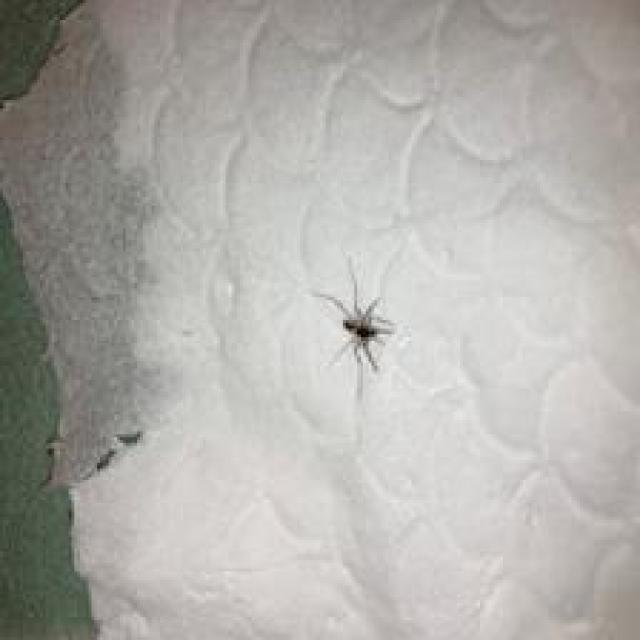Culex: (312, 258, 397, 378)
